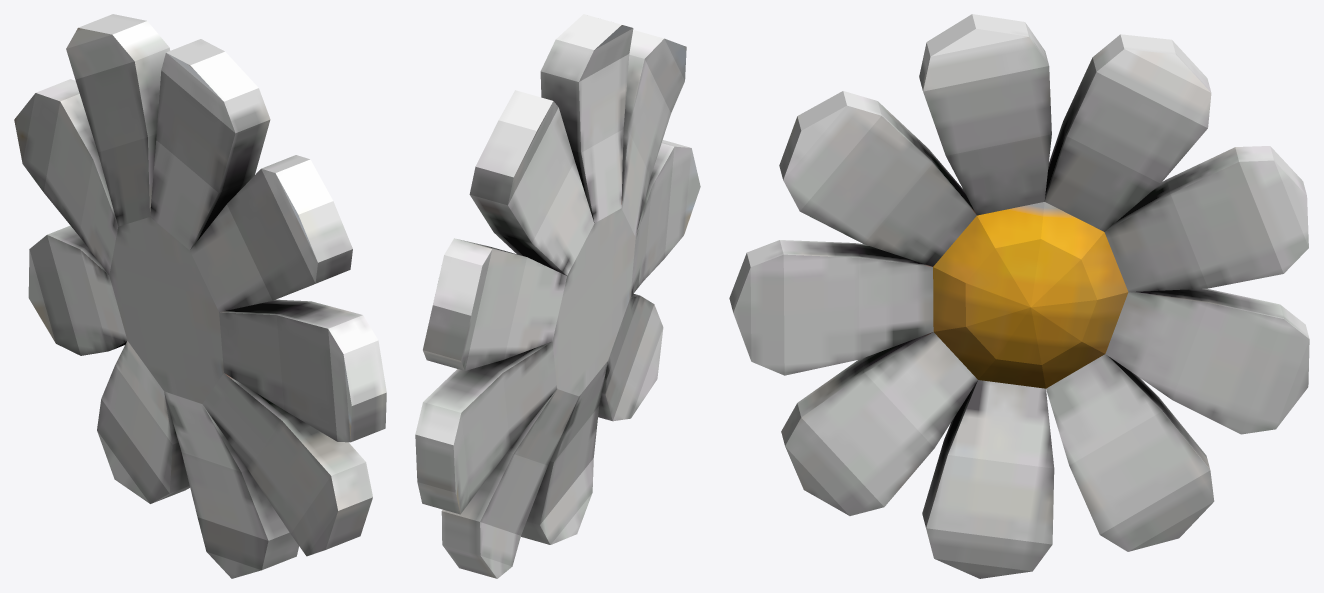
File: DAISY BADGE.fbx
3 renders of one model, left to right at view 1: azimuth 30°, elevation 25°; view 2: azimuth 150°, elevation 25°; view 3: azimuth 270°, elevation 25°, orthographic. The views are drawn at different scales.
Parts seen in each view (by area): view 1: DAISY_BADGE; view 2: DAISY_BADGE; view 3: DAISY_BADGE.
Boxes of the visible parts, x1,y1,x2,y2 form: DAISY_BADGE: (14, 14, 386, 578); DAISY_BADGE: (415, 14, 700, 578); DAISY_BADGE: (729, 14, 1309, 578).
Bounding box in the file's own units: 2.68 × 12.94 × 12.78.
